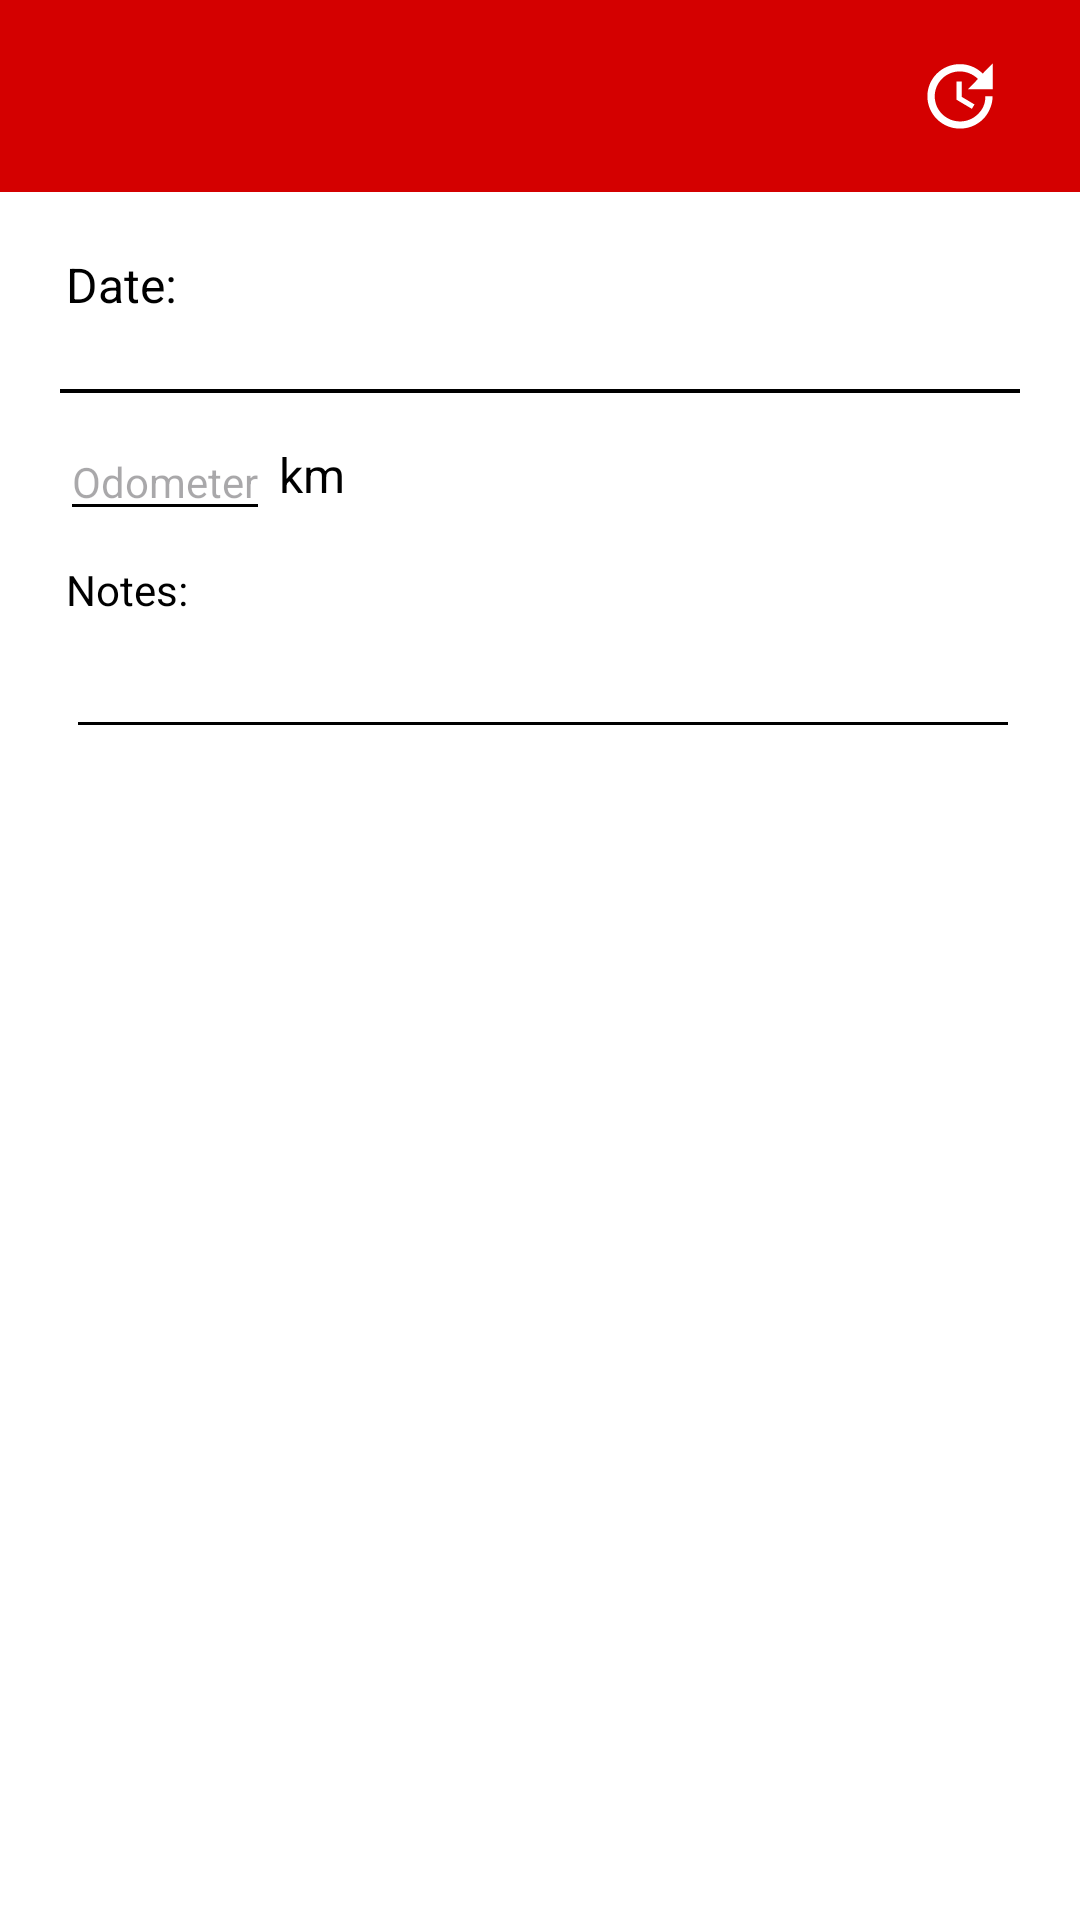

Where to tap for icons on this 1080px x 1920px app screen, as [x,y]:
update: [960,96]
